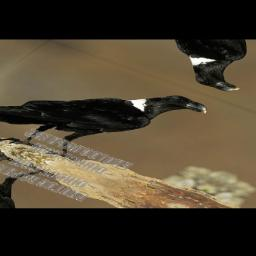Crow: (0, 47, 216, 180)
